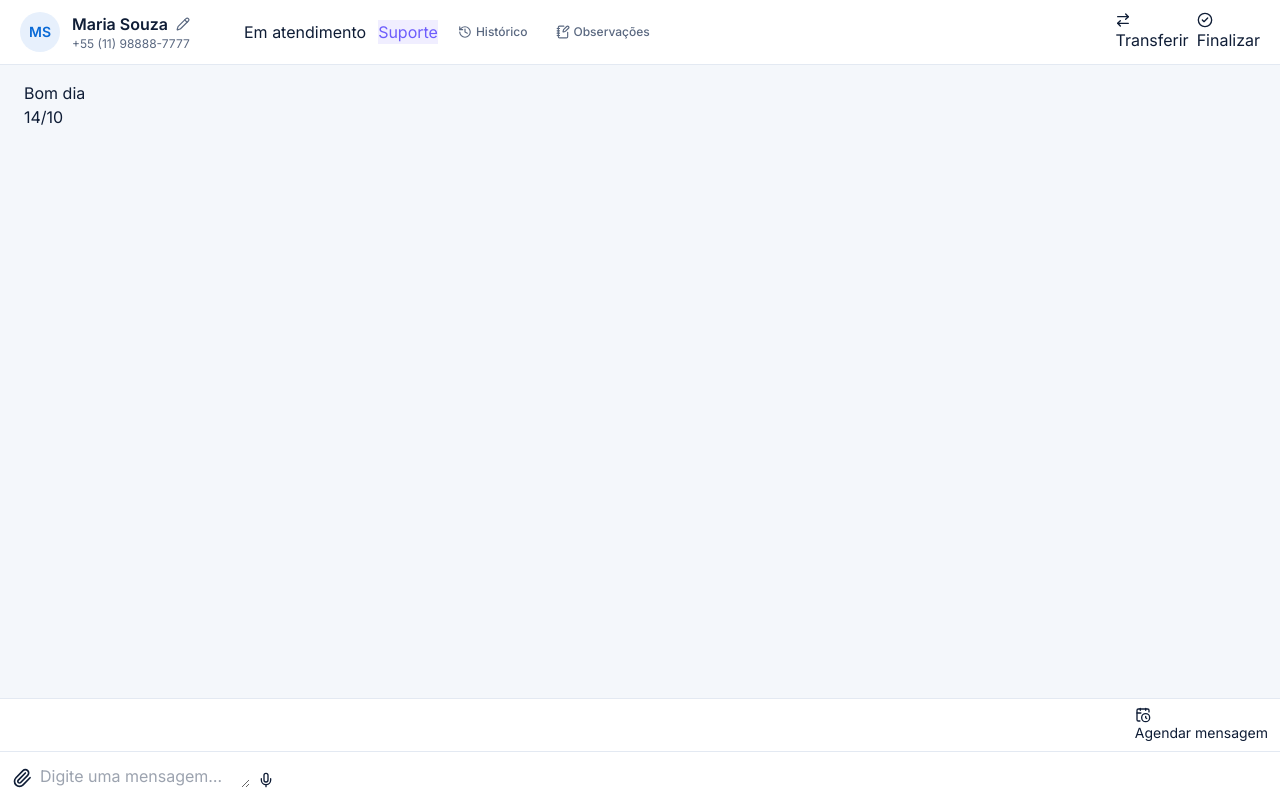
Test: ChatPanel › audio › discards a recording without uploading
This screenshot has width=1280, height=800.
Check: the text "Bom dia" is shown, box [24,83,85,103]
Click the button named "Gravar áudio". click: (266, 780)
box: [258,772,274,788]
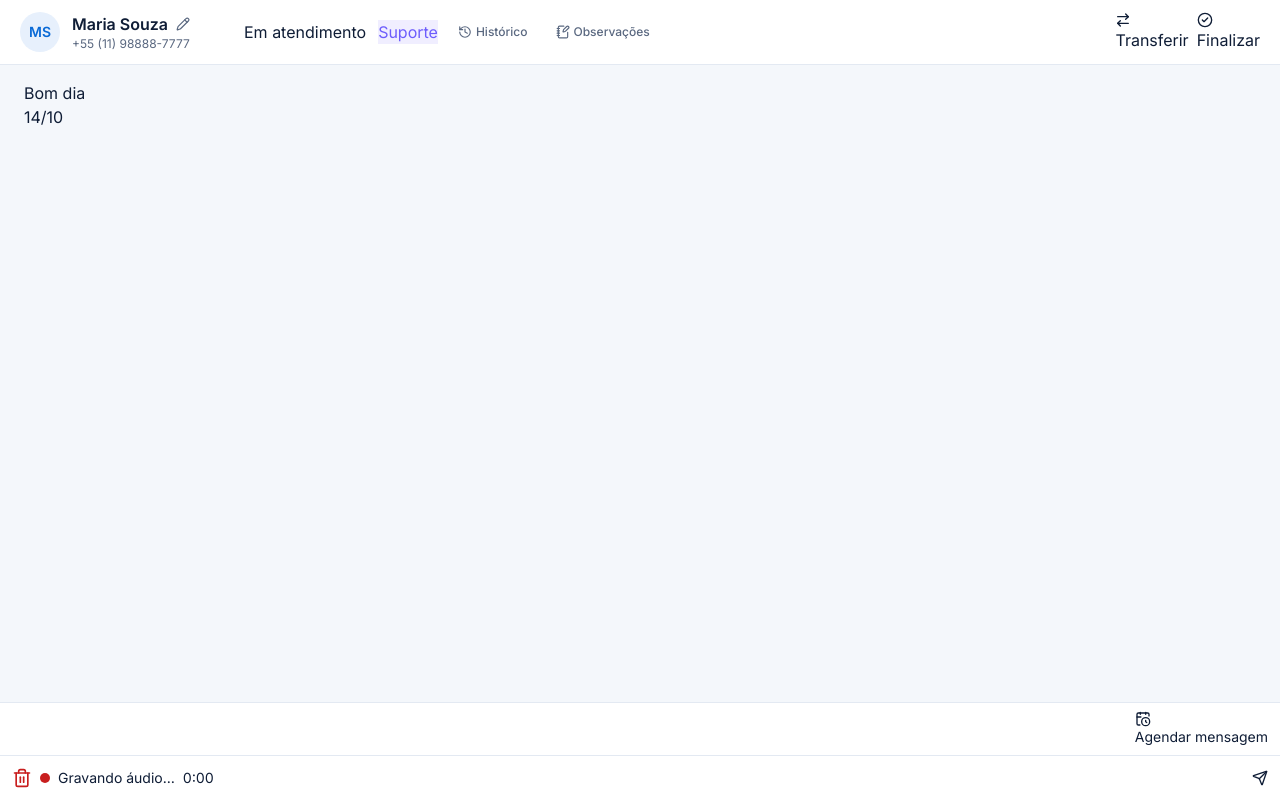
Click the button named "Descartar áudio". click: (22, 778)
box: [12,768,32,788]
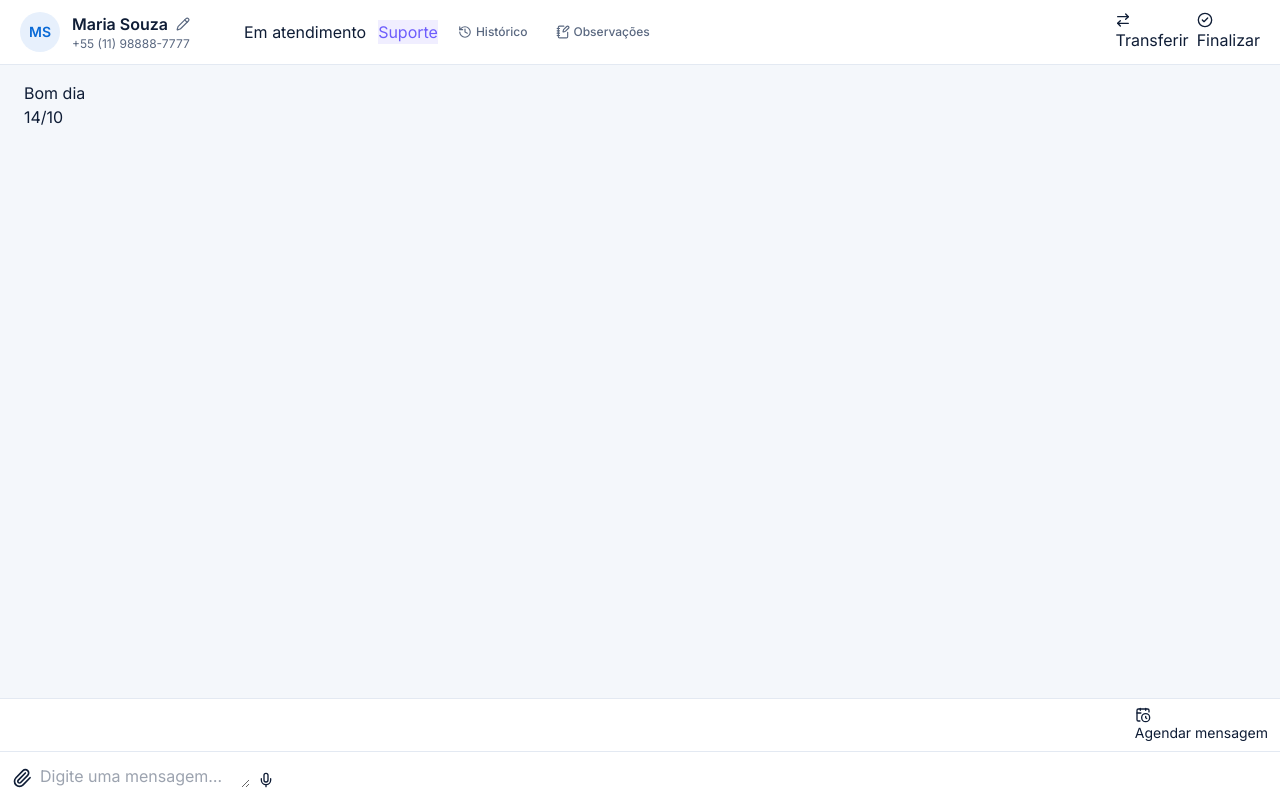
Check: the text box labelled "mensagem" is shown, box [40,764,250,788]
